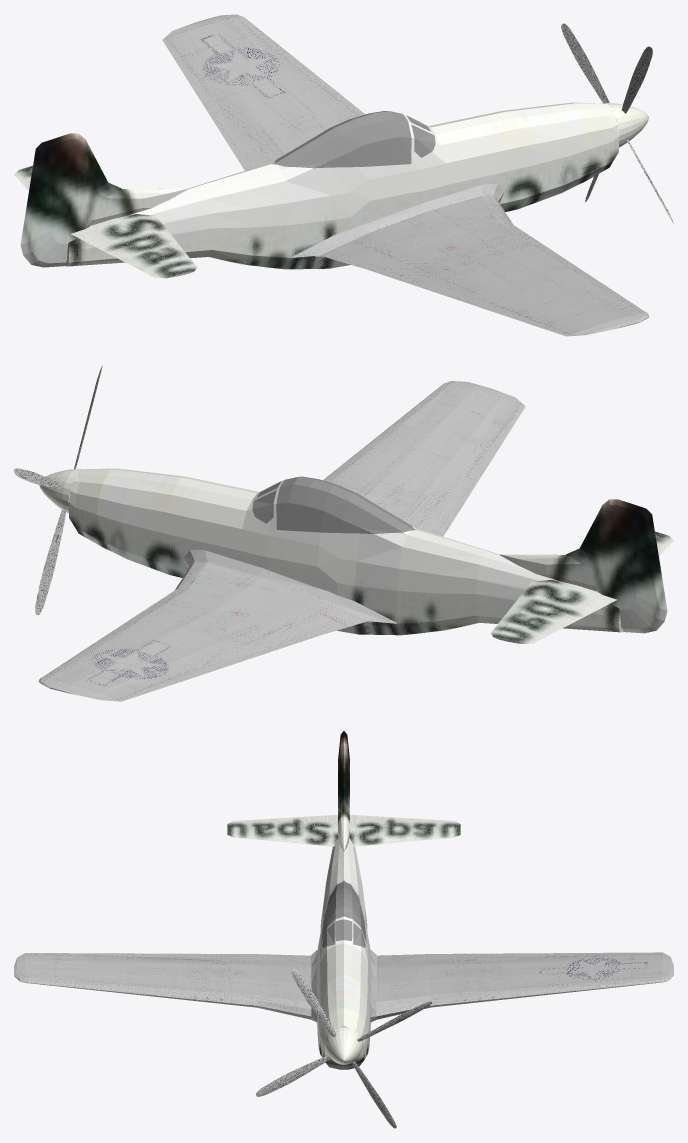
The picture shows the model from 3 angles, top to bottom: view 1: azimuth 30°, elevation 25°; view 2: azimuth 150°, elevation 25°; view 3: azimuth 270°, elevation 25°; orthographic projection. The views are drawn at different scales.
Visible parts, largest first — view 1: mesh6.001_mesh6-geometry, mesh1.001_mesh1-geometry, mesh8.001_mesh8-geometry, mesh7.001_mesh7-geometry, mesh9.001_mesh9-geometry, mesh2.002_mesh2-geometry, mesh3.001_mesh3-geometry, mesh2.004_mesh2-geometry; view 2: mesh3.001_mesh3-geometry, mesh1.001_mesh1-geometry, mesh5.001_mesh5-geometry, mesh4.001_mesh4-geometry, mesh2.001_mesh2-geometry, mesh9.001_mesh9-geometry, mesh6.001_mesh6-geometry; view 3: mesh1.001_mesh1-geometry, mesh3.001_mesh3-geometry, mesh6.001_mesh6-geometry, mesh7.001_mesh7-geometry, mesh4.001_mesh4-geometry, mesh9.001_mesh9-geometry, mesh2.003_mesh2-geometry, mesh2.004_mesh2-geometry, mesh5.001_mesh5-geometry, mesh8.001_mesh8-geometry.
Part boxes in pixels (x1=…): mesh6.001_mesh6-geometry: x1=64, y1=103, x2=618, y2=269; mesh1.001_mesh1-geometry: x1=162, y1=14, x2=649, y2=336; mesh8.001_mesh8-geometry: x1=20, y1=133, x2=187, y2=267; mesh7.001_mesh7-geometry: x1=71, y1=214, x2=196, y2=278; mesh9.001_mesh9-geometry: x1=606, y1=103, x2=648, y2=147; mesh2.002_mesh2-geometry: x1=561, y1=23, x2=616, y2=121; mesh3.001_mesh3-geometry: x1=188, y1=102, x2=605, y2=189; mesh2.004_mesh2-geometry: x1=621, y1=46, x2=652, y2=113; mesh3.001_mesh3-geometry: x1=69, y1=469, x2=623, y2=635; mesh1.001_mesh1-geometry: x1=38, y1=381, x2=525, y2=701; mesh5.001_mesh5-geometry: x1=500, y1=499, x2=667, y2=633; mesh4.001_mesh4-geometry: x1=491, y1=580, x2=616, y2=643; mesh2.001_mesh2-geometry: x1=35, y1=509, x2=66, y2=614; mesh9.001_mesh9-geometry: x1=39, y1=469, x2=83, y2=513; mesh6.001_mesh6-geometry: x1=86, y1=468, x2=499, y2=554; mesh1.001_mesh1-geometry: x1=14, y1=949, x2=673, y2=1022; mesh3.001_mesh3-geometry: x1=344, y1=838, x2=371, y2=1069; mesh6.001_mesh6-geometry: x1=317, y1=838, x2=343, y2=1069; mesh7.001_mesh7-geometry: x1=227, y1=814, x2=338, y2=846; mesh4.001_mesh4-geometry: x1=349, y1=814, x2=460, y2=846; mesh9.001_mesh9-geometry: x1=325, y1=1027, x2=362, y2=1064; mesh2.003_mesh2-geometry: x1=256, y1=1055, x2=330, y2=1096; mesh2.004_mesh2-geometry: x1=291, y1=968, x2=336, y2=1037; mesh5.001_mesh5-geometry: x1=344, y1=731, x2=349, y2=851; mesh8.001_mesh8-geometry: x1=338, y1=731, x2=343, y2=851.
Bounding box in the file's own units: 0.6393 × 0.2196 × 0.7369.
